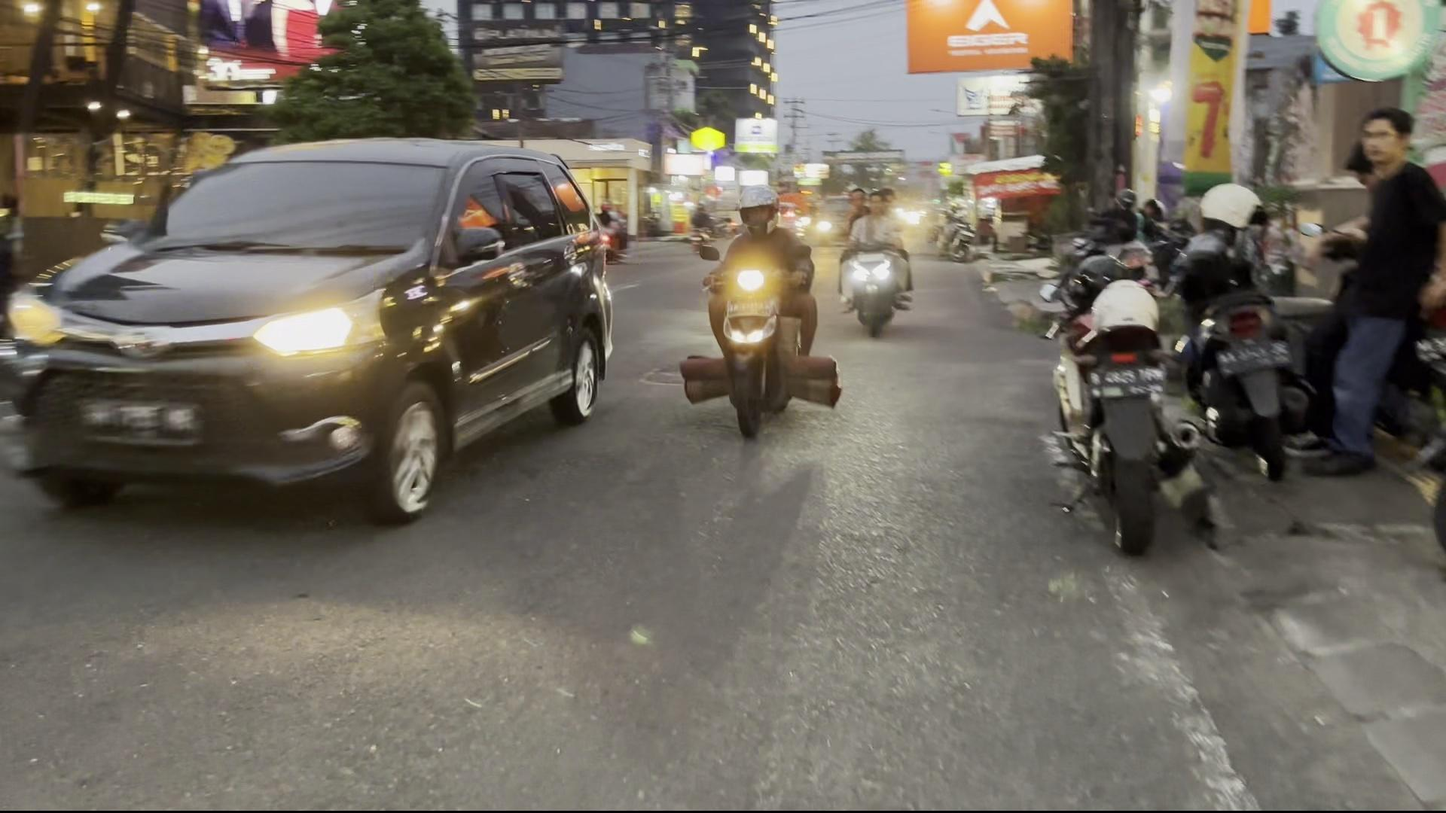helm: (736, 184, 783, 240)
riding: (685, 176, 826, 448)
